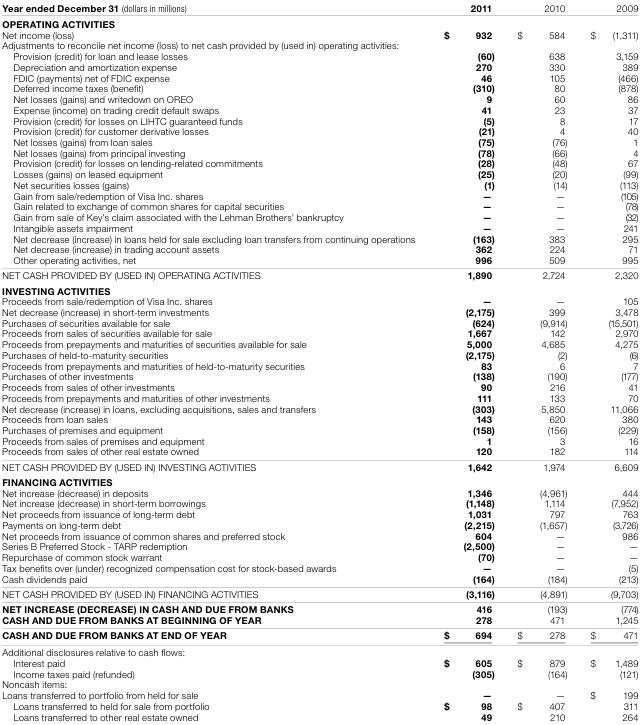table: (1, 1, 637, 721)
table column: (1, 1, 428, 721), (428, 1, 505, 721), (505, 1, 578, 721), (578, 1, 637, 721)
table column header: (1, 1, 637, 15)
table projected row header: (1, 15, 637, 28), (1, 282, 637, 295), (1, 473, 637, 486), (1, 643, 637, 656), (1, 39, 637, 50), (1, 678, 637, 689)
table row: (1, 626, 637, 643), (1, 267, 637, 282), (1, 458, 637, 473), (1, 585, 637, 600), (1, 1, 637, 15), (1, 15, 637, 28), (1, 254, 637, 267), (1, 282, 637, 295), (1, 445, 637, 458), (1, 473, 637, 486), (1, 572, 637, 585), (1, 600, 637, 613), (1, 613, 637, 626), (1, 643, 637, 656), (1, 28, 637, 39), (1, 39, 637, 50), (1, 60, 637, 71), (1, 71, 637, 82), (1, 82, 637, 93), (1, 103, 637, 114), (1, 114, 637, 125), (1, 125, 637, 136), (1, 146, 637, 157), (1, 157, 637, 168), (1, 178, 637, 189), (1, 189, 637, 200), (1, 200, 637, 211), (1, 221, 637, 232), (1, 232, 637, 243), (1, 243, 637, 254), (1, 295, 637, 306), (1, 316, 637, 327), (1, 327, 637, 338), (1, 348, 637, 359), (1, 359, 637, 370), (1, 370, 637, 381), (1, 391, 637, 402), (1, 402, 637, 413), (1, 413, 637, 424), (1, 434, 637, 445), (1, 486, 637, 497), (1, 497, 637, 508), (1, 518, 637, 529), (1, 529, 637, 540), (1, 540, 637, 551), (1, 561, 637, 572), (1, 656, 637, 667), (1, 667, 637, 678), (1, 678, 637, 689), (1, 699, 637, 710), (1, 710, 637, 721), (1, 50, 637, 60), (1, 93, 637, 103), (1, 136, 637, 146), (1, 168, 637, 178), (1, 211, 637, 221), (1, 306, 637, 316), (1, 338, 637, 348), (1, 381, 637, 391), (1, 424, 637, 434), (1, 508, 637, 518), (1, 551, 637, 561), (1, 689, 637, 699)
